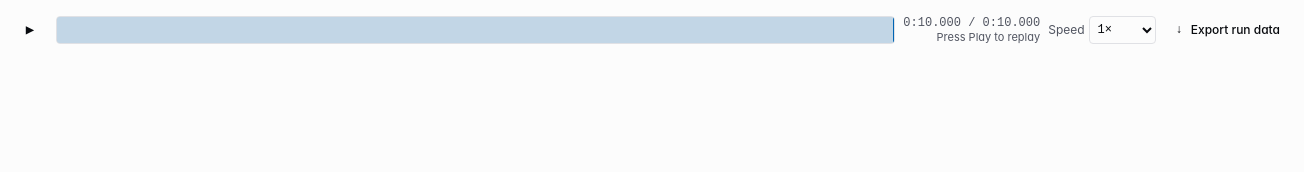
Scenario: ScrubControl status › says Paused after a pause, and that the run ended when playback gets to the end
Click the button with test id "scrub-control-play": point(30, 30) x1=12 y1=12 x2=48 y2=48
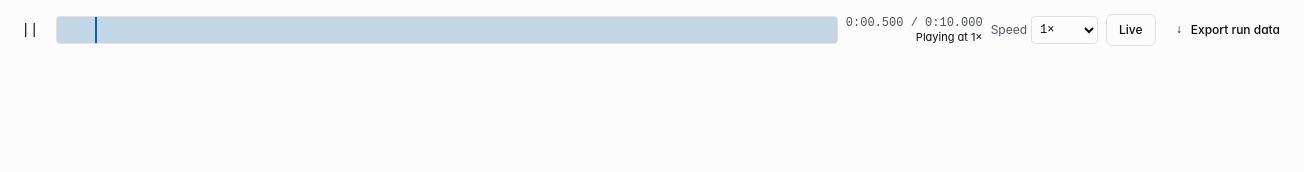
Click the button with test id "scrub-control-play": point(30, 30) x1=12 y1=12 x2=48 y2=48
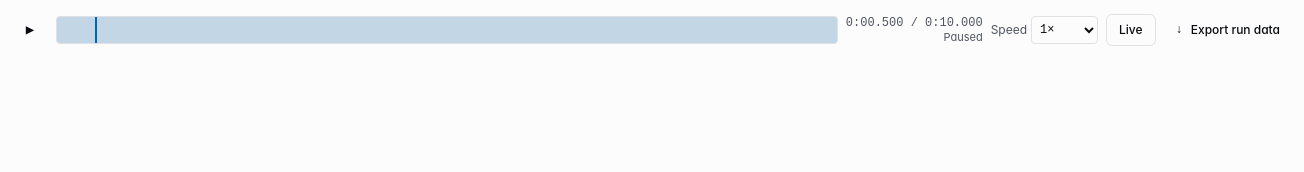
Expected: the message with test id "scrub-control-status" reads "Paused", x1=944 y1=30 x2=983 y2=44
Select "10×" in the dropdown named "Playback speed": point(1064, 30) x1=1031 y1=16 x2=1098 y2=44
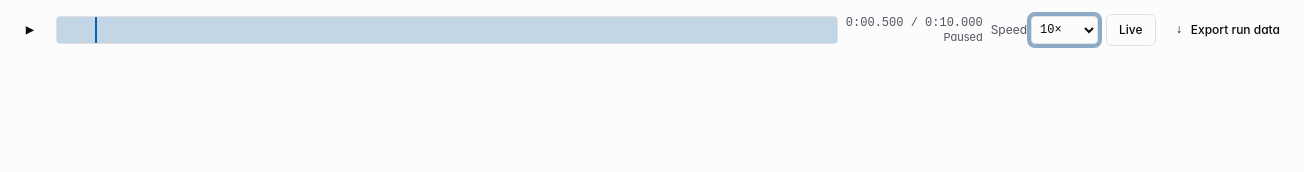
Click the button with test id "scrub-control-play": point(30, 30) x1=12 y1=12 x2=48 y2=48
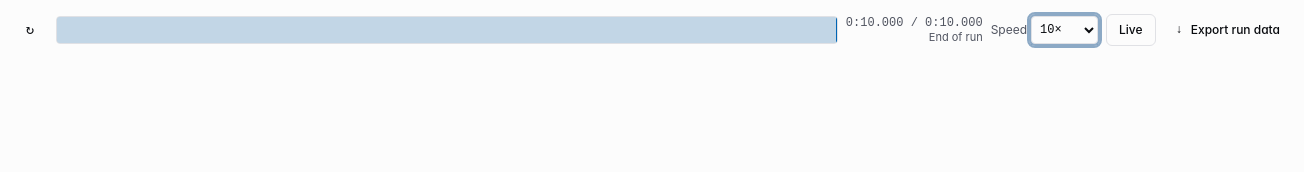
Expected: the message with test id "scrub-control-status" reads "End of run", x1=929 y1=30 x2=983 y2=44
Click the button with test id "scrub-control-play": point(30, 30) x1=12 y1=12 x2=48 y2=48
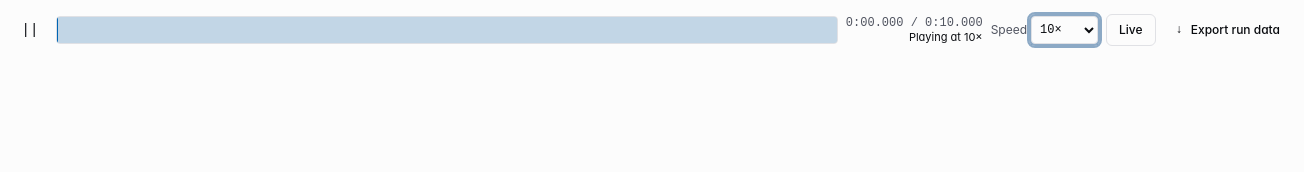
Expected: the message with test id "scrub-control-status" reads "Playing at 10×", x1=909 y1=30 x2=983 y2=44
